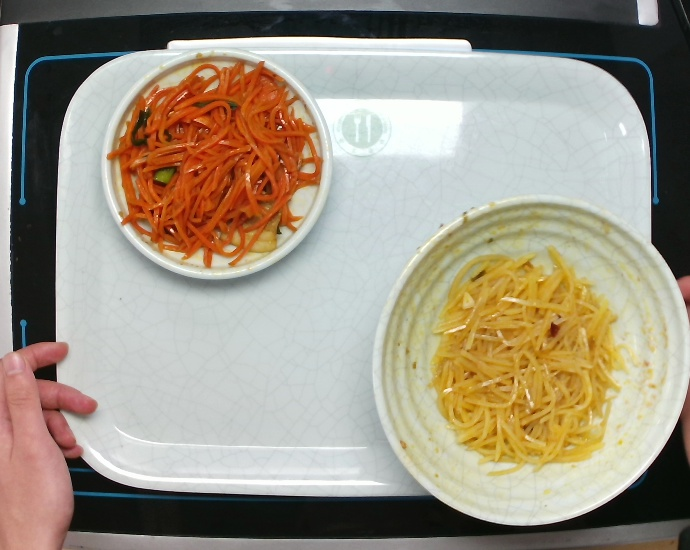JYsf-Da_Tang_Wan: (368, 191, 690, 528)
JYsf-Xiao_Yuan_Pan: (98, 47, 334, 283)
